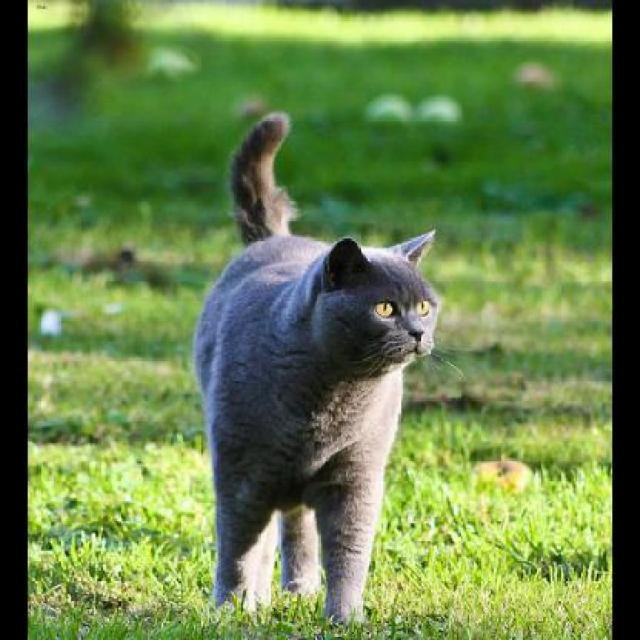unauthorized: (192, 111, 454, 626)
